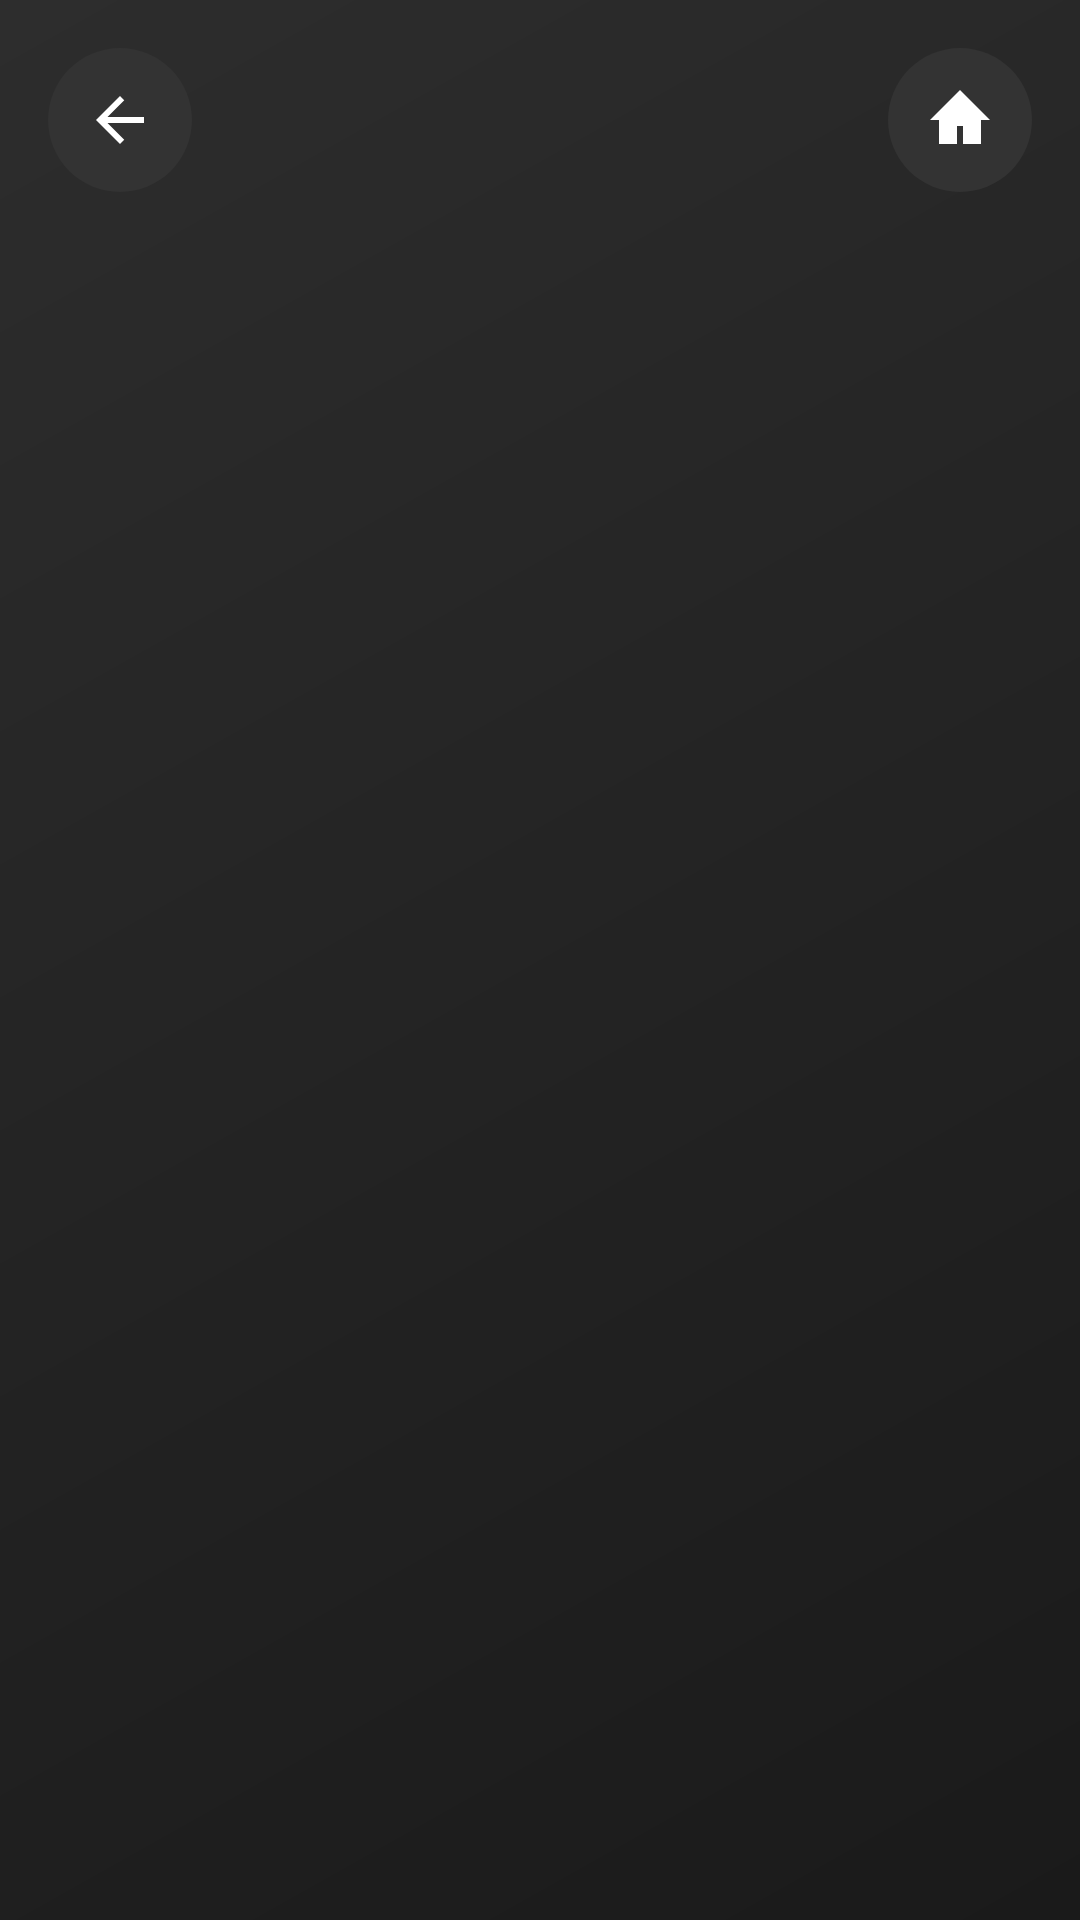

Icons on this 1080 x 1920 Android screen, each with the point to tap as point (x, y):
Главная: point (960, 117)
Назад: point (120, 120)
